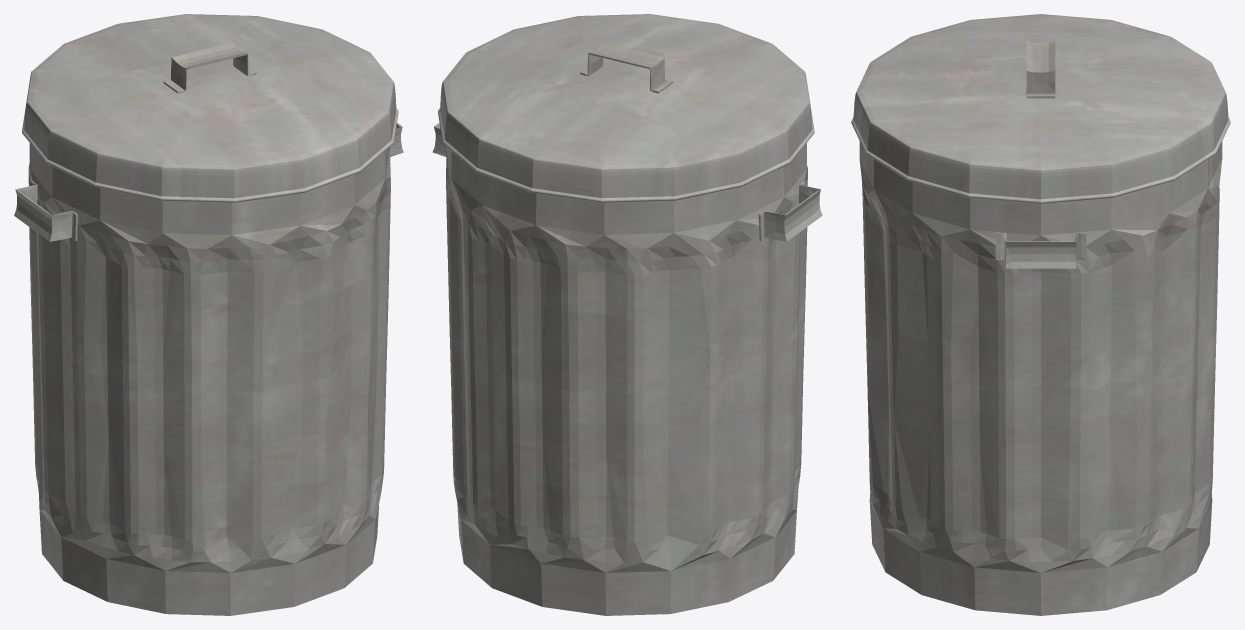
File: MGA4217S.glb
3 views of the same model, side by side, from view 1: azimuth 30°, elevation 25°; view 2: azimuth 150°, elevation 25°; view 3: azimuth 270°, elevation 25° (orthographic).
Visible parts, largest first — view 1: Can-ROOT, Lid-ROOT; view 2: Can-ROOT, Lid-ROOT; view 3: Can-ROOT, Lid-ROOT.
Boxes of the visible parts, left/top/right/bottom form: Can-ROOT: left=14, top=123, right=403, bottom=615; Lid-ROOT: left=22, top=14, right=398, bottom=202; Can-ROOT: left=432, top=122, right=822, bottom=615; Lid-ROOT: left=438, top=14, right=814, bottom=202; Can-ROOT: left=859, top=141, right=1222, bottom=615; Lid-ROOT: left=851, top=14, right=1230, bottom=203.
Bounding box in the file's own units: 34.11 × 45.04 × 31.68.
1 material, 1 textured.
